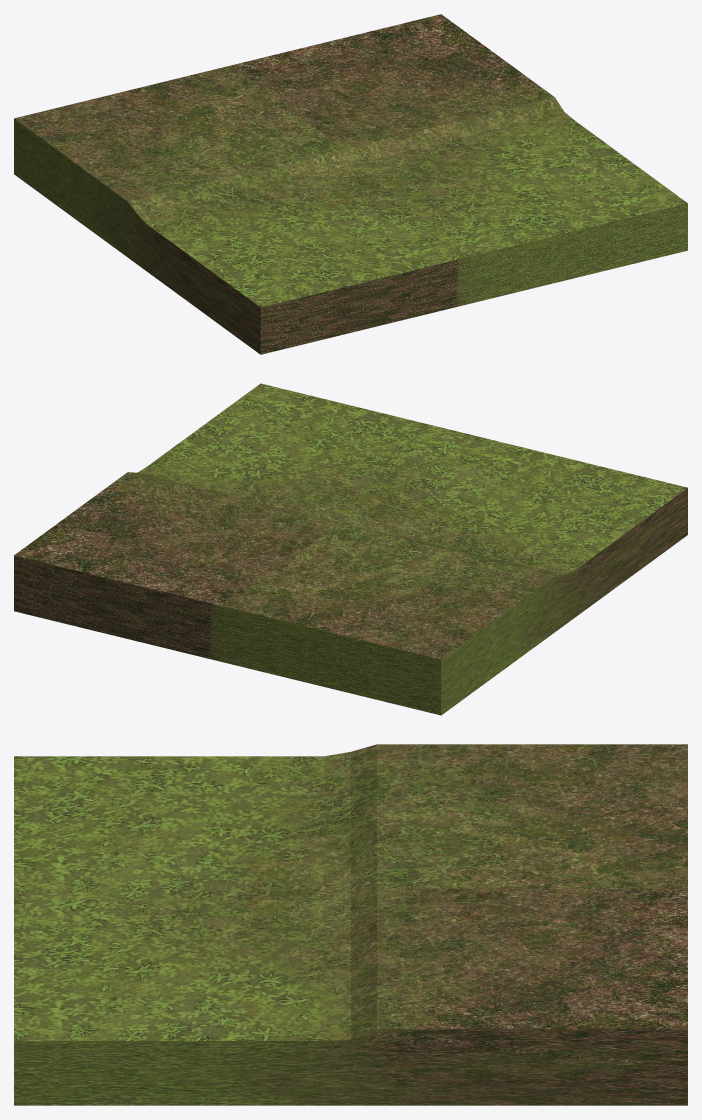
File: ground_grass_to_dirt_01.fbx
The picture shows the model from 3 angles, top to bottom: view 1: azimuth 30°, elevation 25°; view 2: azimuth 150°, elevation 25°; view 3: azimuth 270°, elevation 25°; orthographic projection. The views are drawn at different scales.
Parts seen in each view (by area): view 1: 4x4 Dirt to Stone Floor.002; view 2: 4x4 Dirt to Stone Floor.002; view 3: 4x4 Dirt to Stone Floor.002.
Part boxes in pixels (left/top/right/bottom): 4x4 Dirt to Stone Floor.002: left=14, top=14, right=687, bottom=354; 4x4 Dirt to Stone Floor.002: left=14, top=383, right=687, bottom=715; 4x4 Dirt to Stone Floor.002: left=14, top=744, right=687, bottom=1105.
Size of the model in its own units: 400 by 50 by 400.
Materials: 1 (1 with a texture image).
